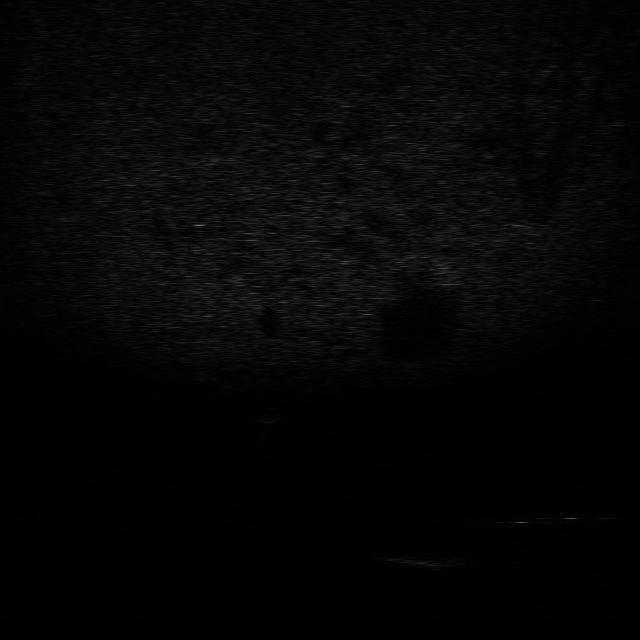ball: (250, 404, 289, 424)
metal bucket: (380, 547, 471, 574)
tyre: (494, 508, 611, 526)
